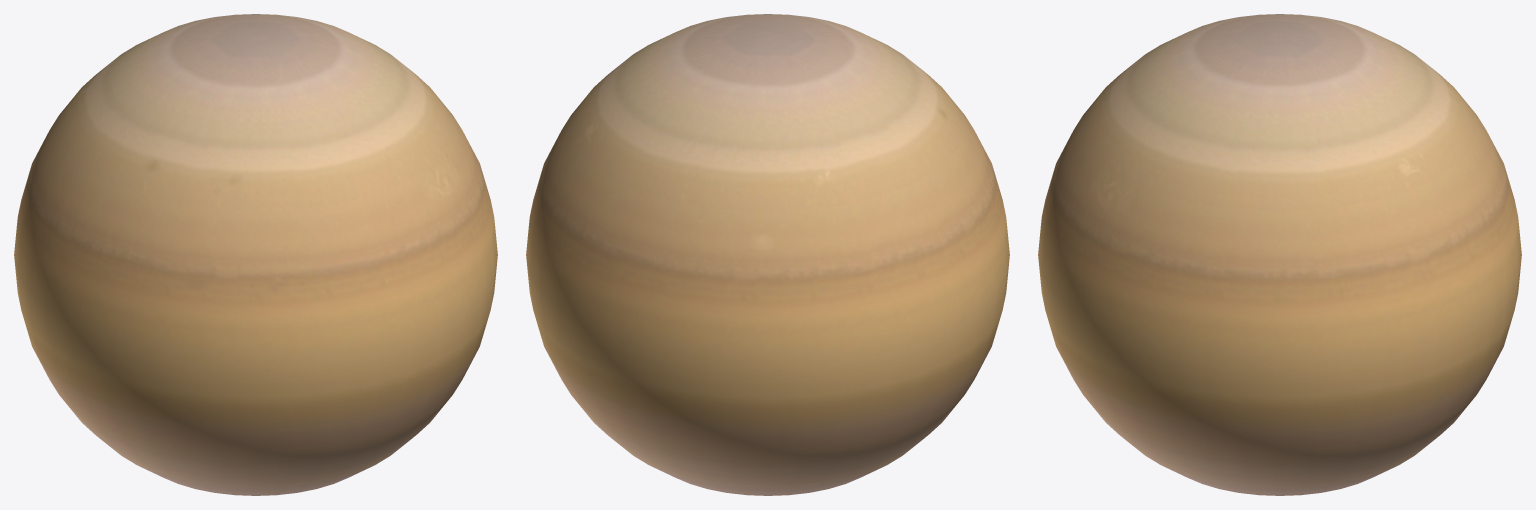
File: Saturn.FBX
3 views of the same model, side by side, from view 1: azimuth 30°, elevation 25°; view 2: azimuth 150°, elevation 25°; view 3: azimuth 270°, elevation 25° (orthographic).
Parts seen in each view (by area): view 1: Sphere01; view 2: Sphere01; view 3: Sphere01.
Part boxes in pixels (x1,y1,x2,y2): Sphere01: (14,14,497,495); Sphere01: (526,14,1009,495); Sphere01: (1038,14,1521,495).
Size of the model in its own units: 200 by 200 by 200.
1 material, 1 textured.
